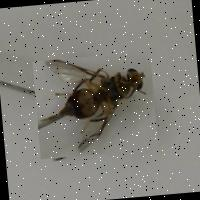Oriental-fruit-fly: (31, 51, 158, 160)
